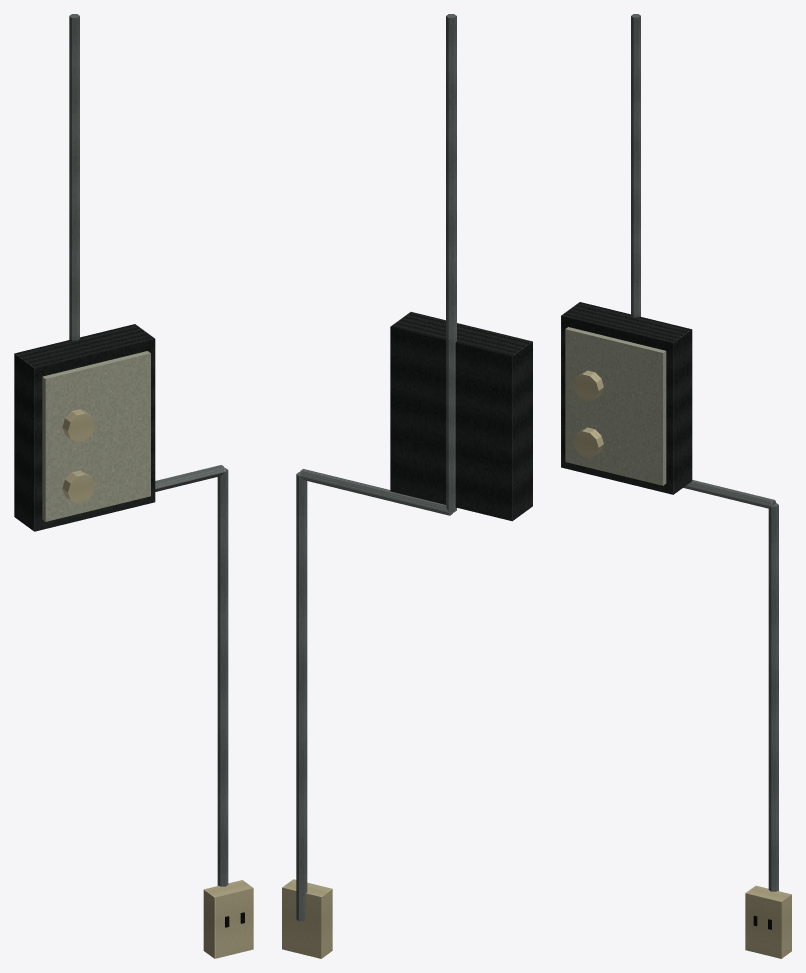
The model's file is level_trace_electric_branch.glb.
3 renders of one model, left to right at view 1: azimuth 30°, elevation 25°; view 2: azimuth 150°, elevation 25°; view 3: azimuth 330°, elevation 25°, orthographic. The views are drawn at different scales.
Parts seen in each view (by area): view 1: level_trace_electric_branch; view 2: level_trace_electric_branch; view 3: level_trace_electric_branch.
Boxes of the visible parts, bbox=[...] form: level_trace_electric_branch: bbox=[14, 14, 253, 958]; level_trace_electric_branch: bbox=[282, 14, 532, 958]; level_trace_electric_branch: bbox=[561, 14, 791, 958].
Size of the model in its own units: 0.585 by 2.37 by 0.147.
5 materials, 5 textured.
